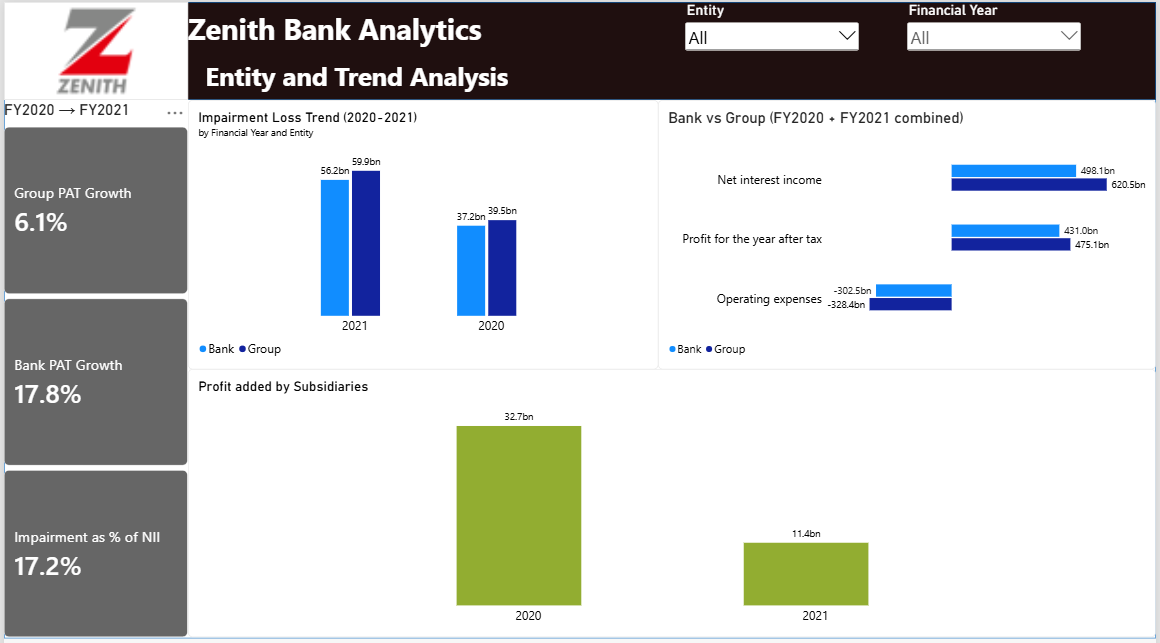

Layout of this report page (visuals, bound fields, positions):
{"tool":"powerbi","page":{"name":"Entity & Trend Analysis","canvas":[1920,1080],"ordinal":2},"visuals":[{"type":"shape","box":[0,0,1920,1060.6],"z":0},{"type":"shape","box":[0,0,1920,163.3],"z":1000},{"type":"image","box":[0,0,306.8,163.3],"z":2000},{"type":"textbox","box":[306.8,0,686.2,82.5],"z":3000},{"type":"textbox","box":[314.2,82.9,545.5,73.3],"z":4000},{"type":"slicer","fields":{"Values":["Fact_Financials.Entity"]},"box":[1129.9,0,300.2,156.7],"z":5000},{"type":"slicer","fields":{"Values":["Fact_Financials.Financial_Year"]},"box":[1499.4,0,300.2,163.3],"z":6000},{"type":"clusteredColumnChart","title":"Impairment Loss Trend (2020-2021)","fields":{"Category":["Fact_Financials.Financial_Year"],"Series":["Fact_Financials.Entity"],"Y":["Fact_Financials.Impairment Loss"]},"box":[306.8,163.3,783.5,448.7],"z":7000},{"type":"clusteredBarChart","title":"Bank vs Group (FY2020 + FY2021 combined)","fields":{"Category":["Dim_Line_Item.Line_Item"],"Series":["Fact_Financials.Entity"],"Y":["Fact_Financials.Total Amount"]},"box":[1090.3,163.3,829.7,448.7],"z":8000},{"type":"cardVisual","title":"FY2020 → FY2021","fields":{"Data":["Fact_Financials.Group PAT Growth","Fact_Financials.Bank PAT Growth","Fact_Financials.Impairment to NII"]},"box":[0,163.9,306.5,896.4],"z":9000},{"type":"clusteredColumnChart","title":"Profit added by Subsidiaries ","fields":{"Category":["Fact_Financials.Financial_Year"],"Series":["Dim_Line_Item.Line_Item"],"Y":["Fact_Financials.Subsidiary Contribution"]},"box":[306.8,612,1613.2,447],"z":10000}]}

Visuals, with their boxes in screenshot pixels (x1, y1, x2, y2), scaled from the page's 1920x1080 canvas onto the 1160x643 screenshot:
shape: select_region(0, 0, 1159, 631)
shape: select_region(0, 0, 1159, 97)
image: select_region(0, 0, 185, 97)
textbox: select_region(185, 0, 600, 49)
textbox: select_region(190, 49, 519, 93)
slicer - Fact_Financials.Entity: select_region(683, 0, 864, 93)
slicer - Fact_Financials.Financial_Year: select_region(906, 0, 1087, 97)
"Impairment Loss Trend (2020-2021)" clusteredColumnChart: select_region(185, 97, 659, 364)
"Bank vs Group (FY2020 + FY2021 combined)" clusteredBarChart: select_region(659, 97, 1159, 364)
"FY2020 → FY2021" cardVisual: select_region(0, 98, 185, 631)
"Profit added by Subsidiaries " clusteredColumnChart: select_region(185, 364, 1159, 630)
